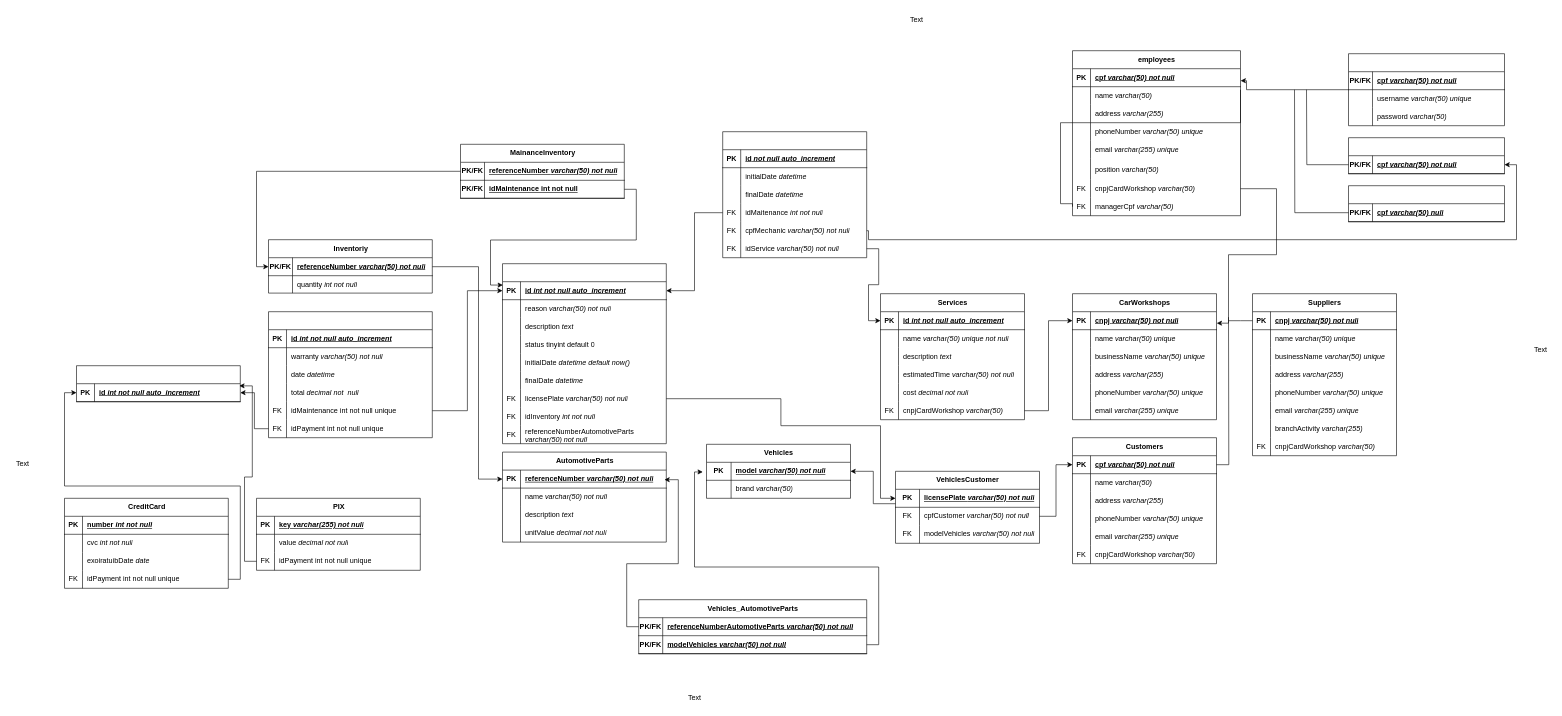
This 1562x716 diagram has some shape labels left out. Each missing label, with the box of its shape:
attendants: (1348, 185, 1504, 222)
Maintenance: (502, 263, 666, 444)
mechanics: (1348, 137, 1504, 174)
Payment: (76, 365, 240, 402)
ServicesProvided: (722, 131, 867, 258)
users: (1348, 53, 1504, 126)
WorkOrders: (268, 311, 432, 438)
